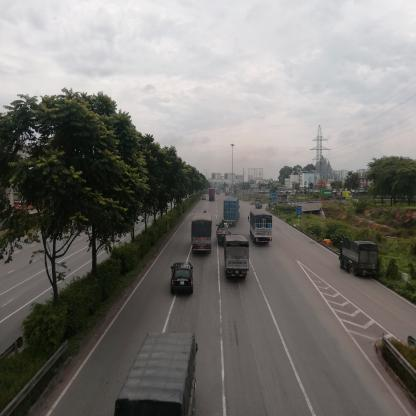car: (172, 264, 194, 295), (202, 195, 206, 202)
container: (321, 190, 355, 203), (225, 199, 239, 226), (210, 190, 216, 202)
truck: (129, 334, 198, 416), (341, 242, 379, 275), (225, 235, 250, 284), (193, 214, 213, 254), (252, 212, 274, 243), (217, 223, 233, 237), (279, 196, 290, 204), (256, 202, 264, 210)
